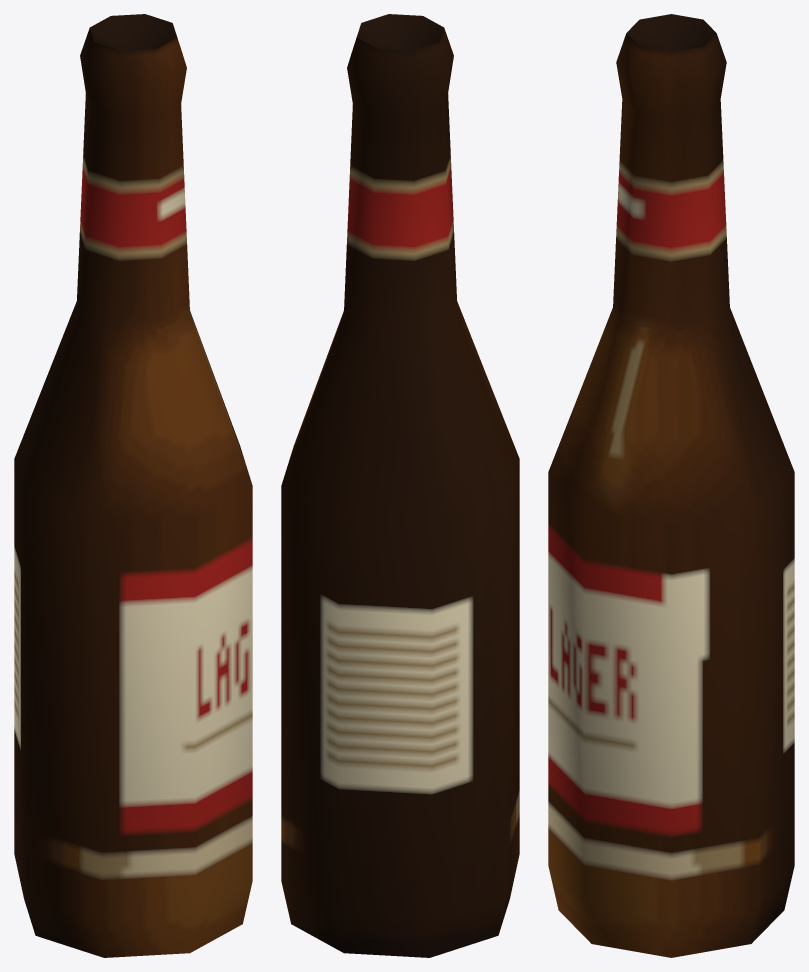
The model's file is SM_Motel_BeerBottle.obj.
3 renders of one model, left to right at view 1: azimuth 30°, elevation 25°; view 2: azimuth 150°, elevation 25°; view 3: azimuth 270°, elevation 25°, orthographic.
Parts seen in each view (by area): view 1: SM_Motel_BeerBottle; view 2: SM_Motel_BeerBottle; view 3: SM_Motel_BeerBottle.
Part boxes in pixels (x1=…): SM_Motel_BeerBottle: x1=14, y1=14, x2=252, y2=957; SM_Motel_BeerBottle: x1=281, y1=14, x2=519, y2=957; SM_Motel_BeerBottle: x1=548, y1=14, x2=794, y2=957.
Bounding box in the file's own units: 0.061 × 0.24 × 0.061.
1 material, 1 textured.
